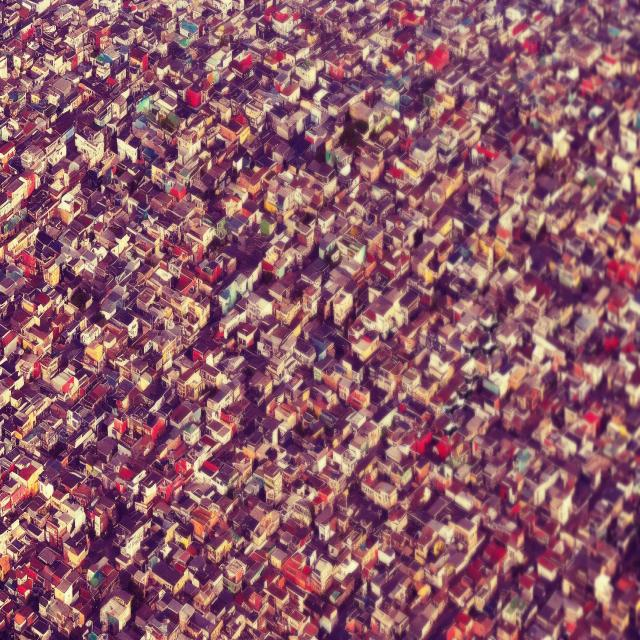airplane: (478, 311, 499, 334), (482, 340, 499, 359), (442, 402, 461, 418), (461, 343, 479, 359), (443, 425, 460, 440), (462, 373, 482, 385), (455, 388, 473, 400)
